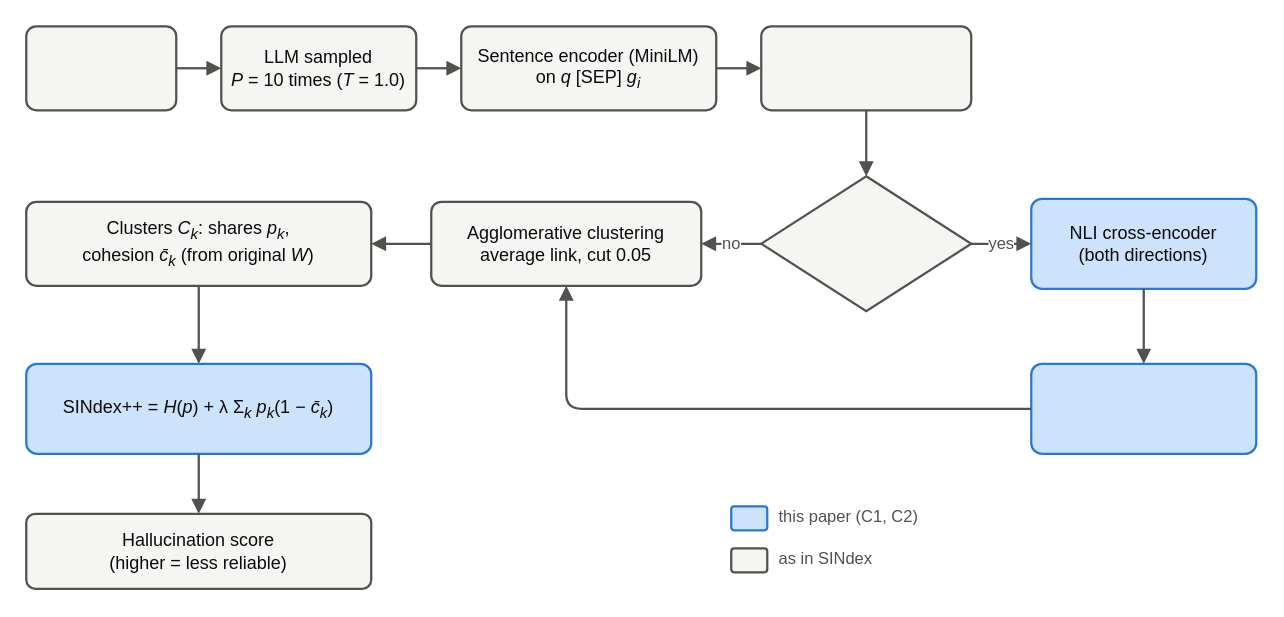
Image size: 1284x617. Some labels were removed from this diagram. The shapes that lost their labels are listed below. From the top down, each one's centre as x and y in pixels, then its label:
the point at 100,67: Question q
the point at 865,67: Cosine similarity matrix W
the point at 865,243: 0.85 ≤ W ij < 1 ?
the point at 1143,408: P(contradiction) > 0.5 ⇒ set W ij = −1
